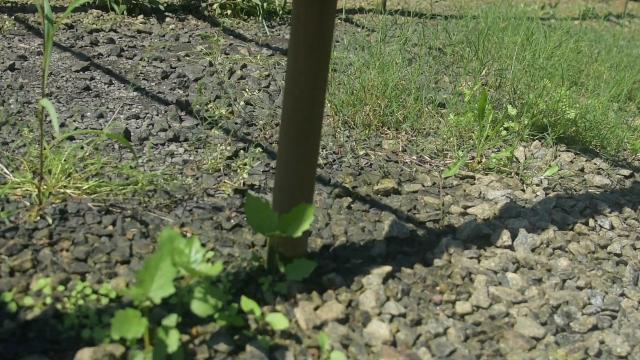MalezaMontesDelPlata: (104, 192, 322, 360), (0, 0, 140, 205), (333, 4, 437, 128), (430, 86, 564, 182)
